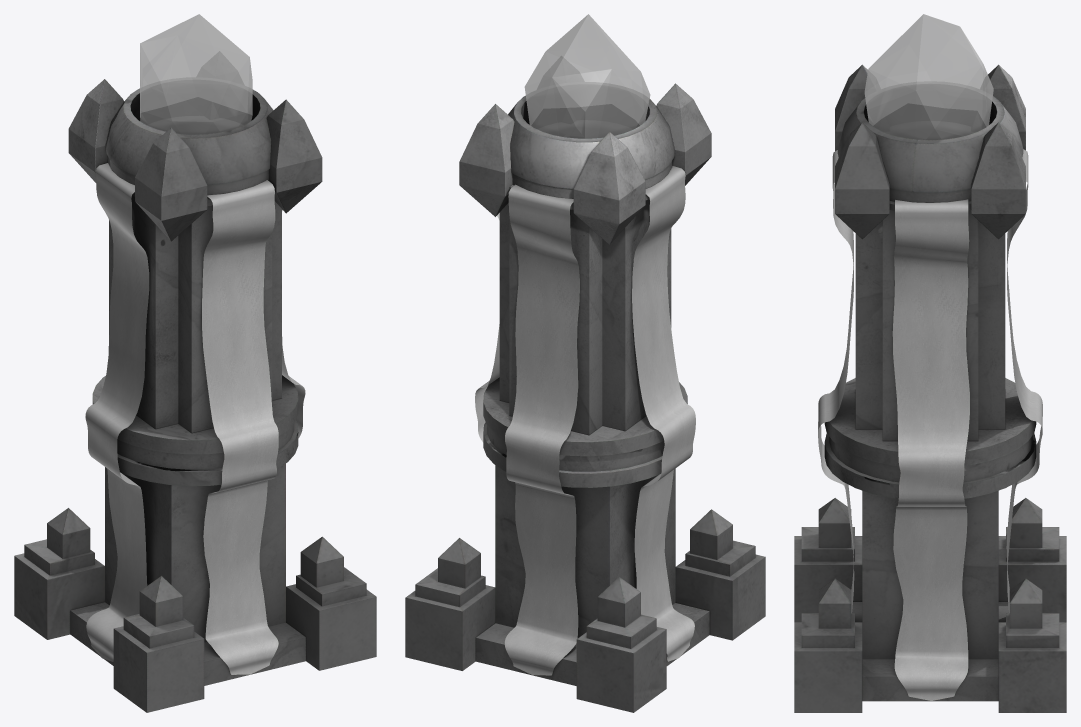
Rendered from tower.gltf.
3 renders of one model, left to right at view 1: azimuth 30°, elevation 25°; view 2: azimuth 150°, elevation 25°; view 3: azimuth 270°, elevation 25°, orthographic. The views are drawn at different scales.
Parts seen in each view (by area): view 1: Banners, Main Structure, Base Cristal, Upper Crystals, Main Cristal, Cylinder; view 2: Banners, Main Structure, Base Cristal, Upper Crystals, Main Cristal, Cylinder; view 3: Main Structure, Banners, Base Cristal, Upper Crystals, Main Cristal, Cylinder.
Part boxes in pixels (x1,y1,x2,y2): Banners: [85, 163, 305, 674]; Main Structure: [70, 88, 305, 685]; Base Cristal: [14, 508, 376, 712]; Upper Crystals: [68, 79, 322, 241]; Main Cristal: [140, 14, 252, 134]; Cylinder: [92, 375, 298, 486]; Banners: [475, 166, 695, 675]; Main Structure: [475, 96, 709, 685]; Base Cristal: [405, 509, 765, 712]; Upper Crystals: [459, 83, 711, 244]; Main Cristal: [524, 14, 650, 138]; Cylinder: [483, 377, 687, 487]; Main Structure: [837, 96, 1023, 701]; Banners: [818, 149, 1042, 700]; Base Cristal: [794, 498, 1066, 712]; Upper Crystals: [835, 64, 1025, 239]; Main Cristal: [864, 14, 993, 139]; Cylinder: [824, 378, 1036, 498].
Bounding box in the file's own units: 2 × 5.19 × 2.
3 materials, 3 textured.
